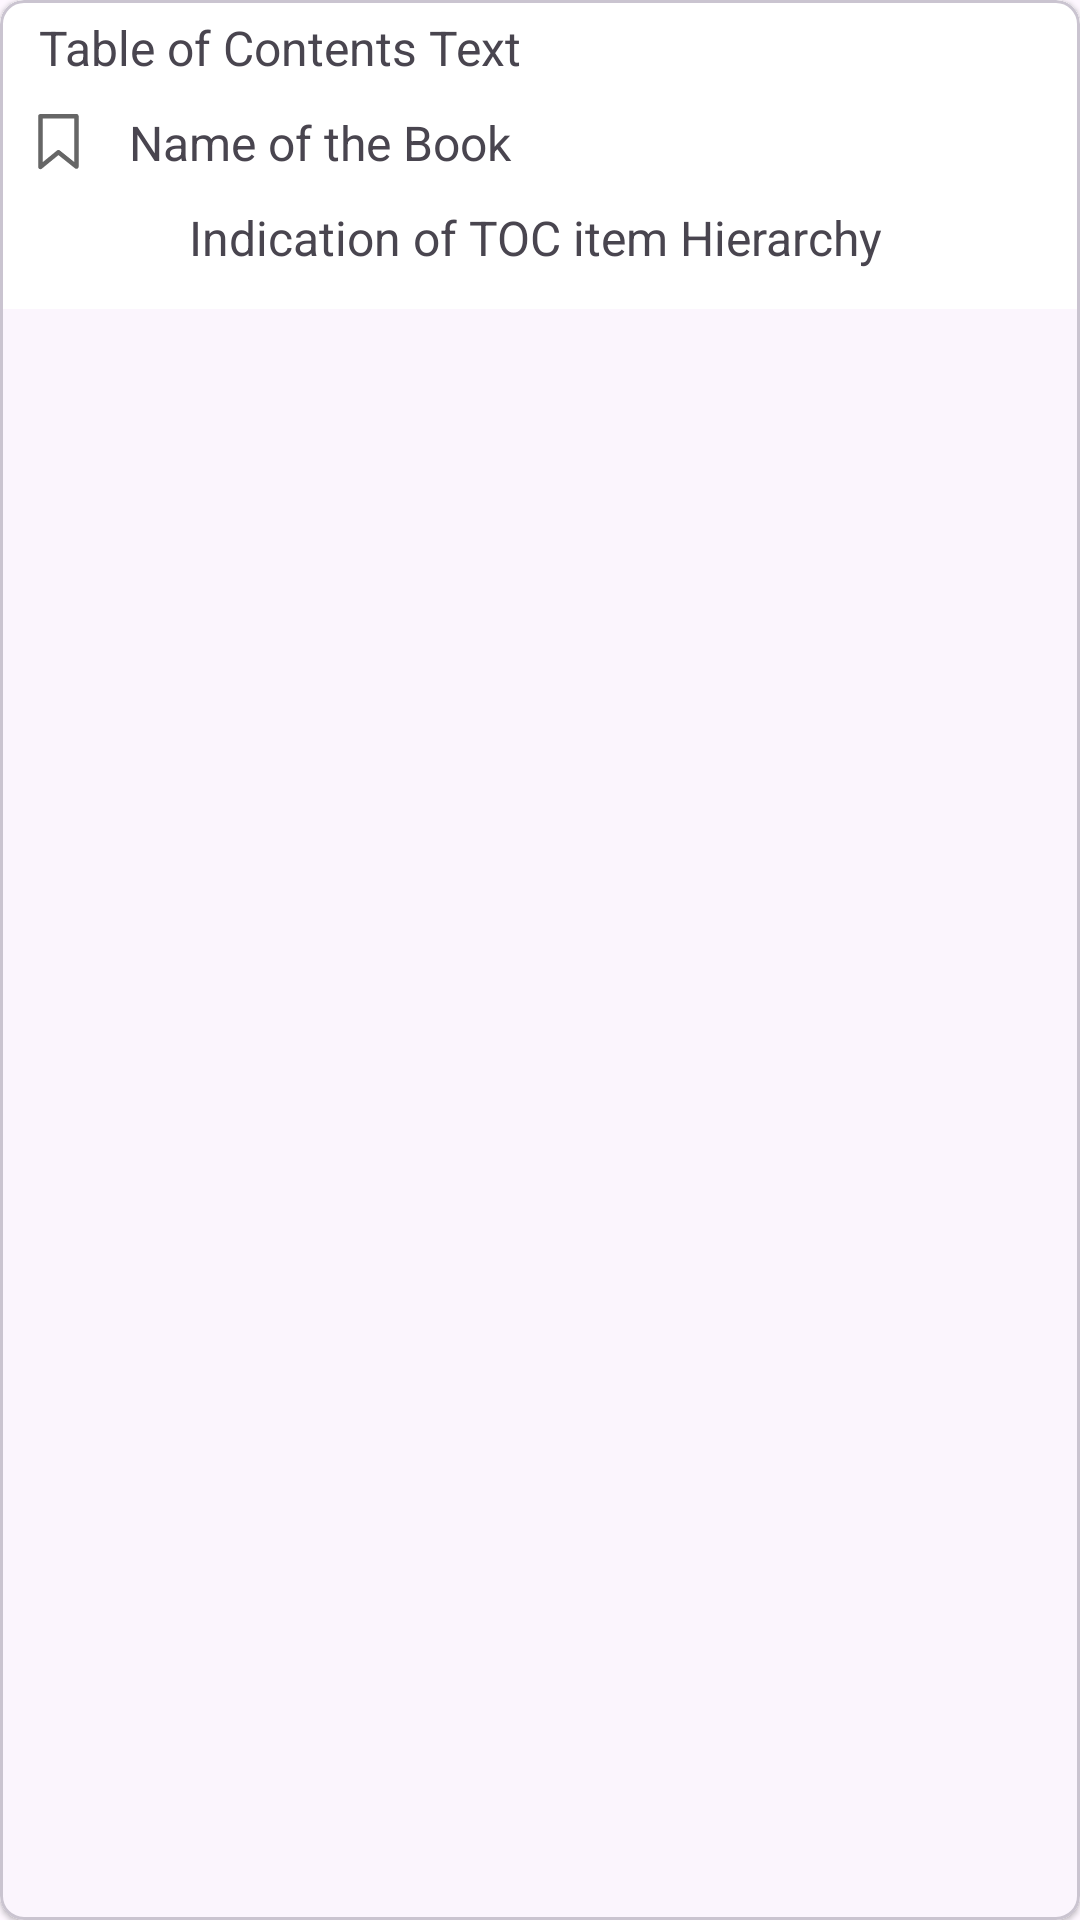

Screen size 1080w x 1920h. Icon name, then its box in pixels as (x1, y1, x2, y2):
The bookmark id of the saved toc item: (38, 114, 79, 170)
